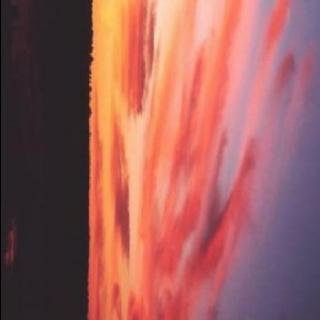Cirrus: (87, 0, 320, 320)
